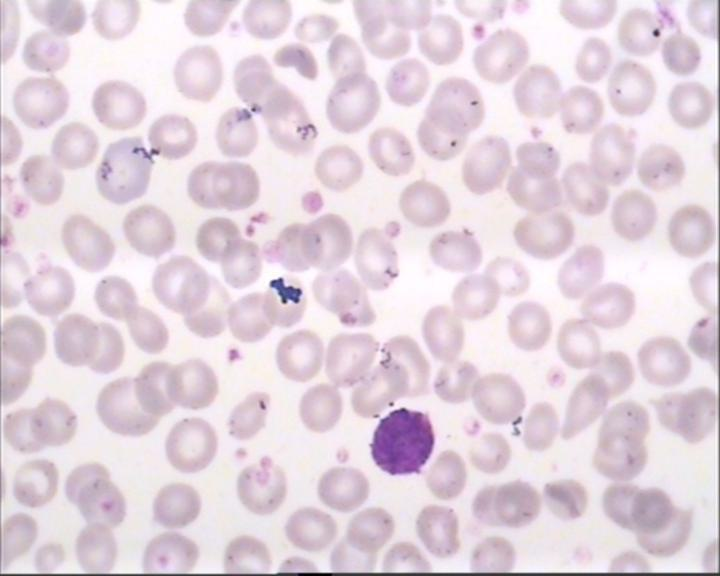baso: (363, 404, 436, 482)
